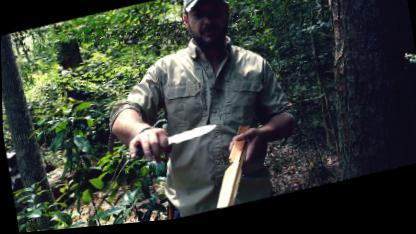knife: (140, 116, 224, 160)
